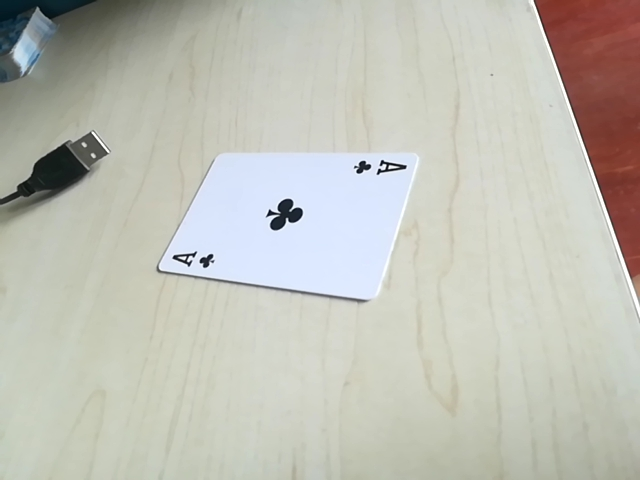mh a: (161, 244, 220, 276), (345, 155, 411, 183)
